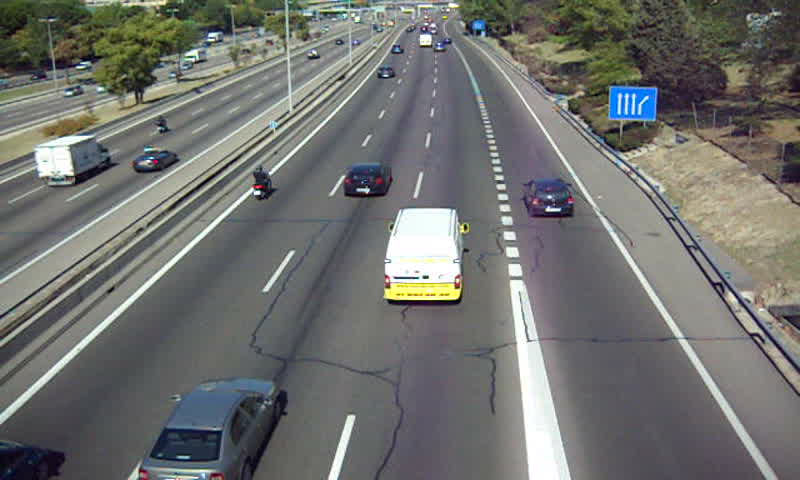car: (138, 378, 282, 480), (523, 179, 576, 217), (342, 164, 392, 197), (377, 64, 396, 80)
motorcycle: (249, 165, 272, 202)
van: (385, 208, 464, 302)
